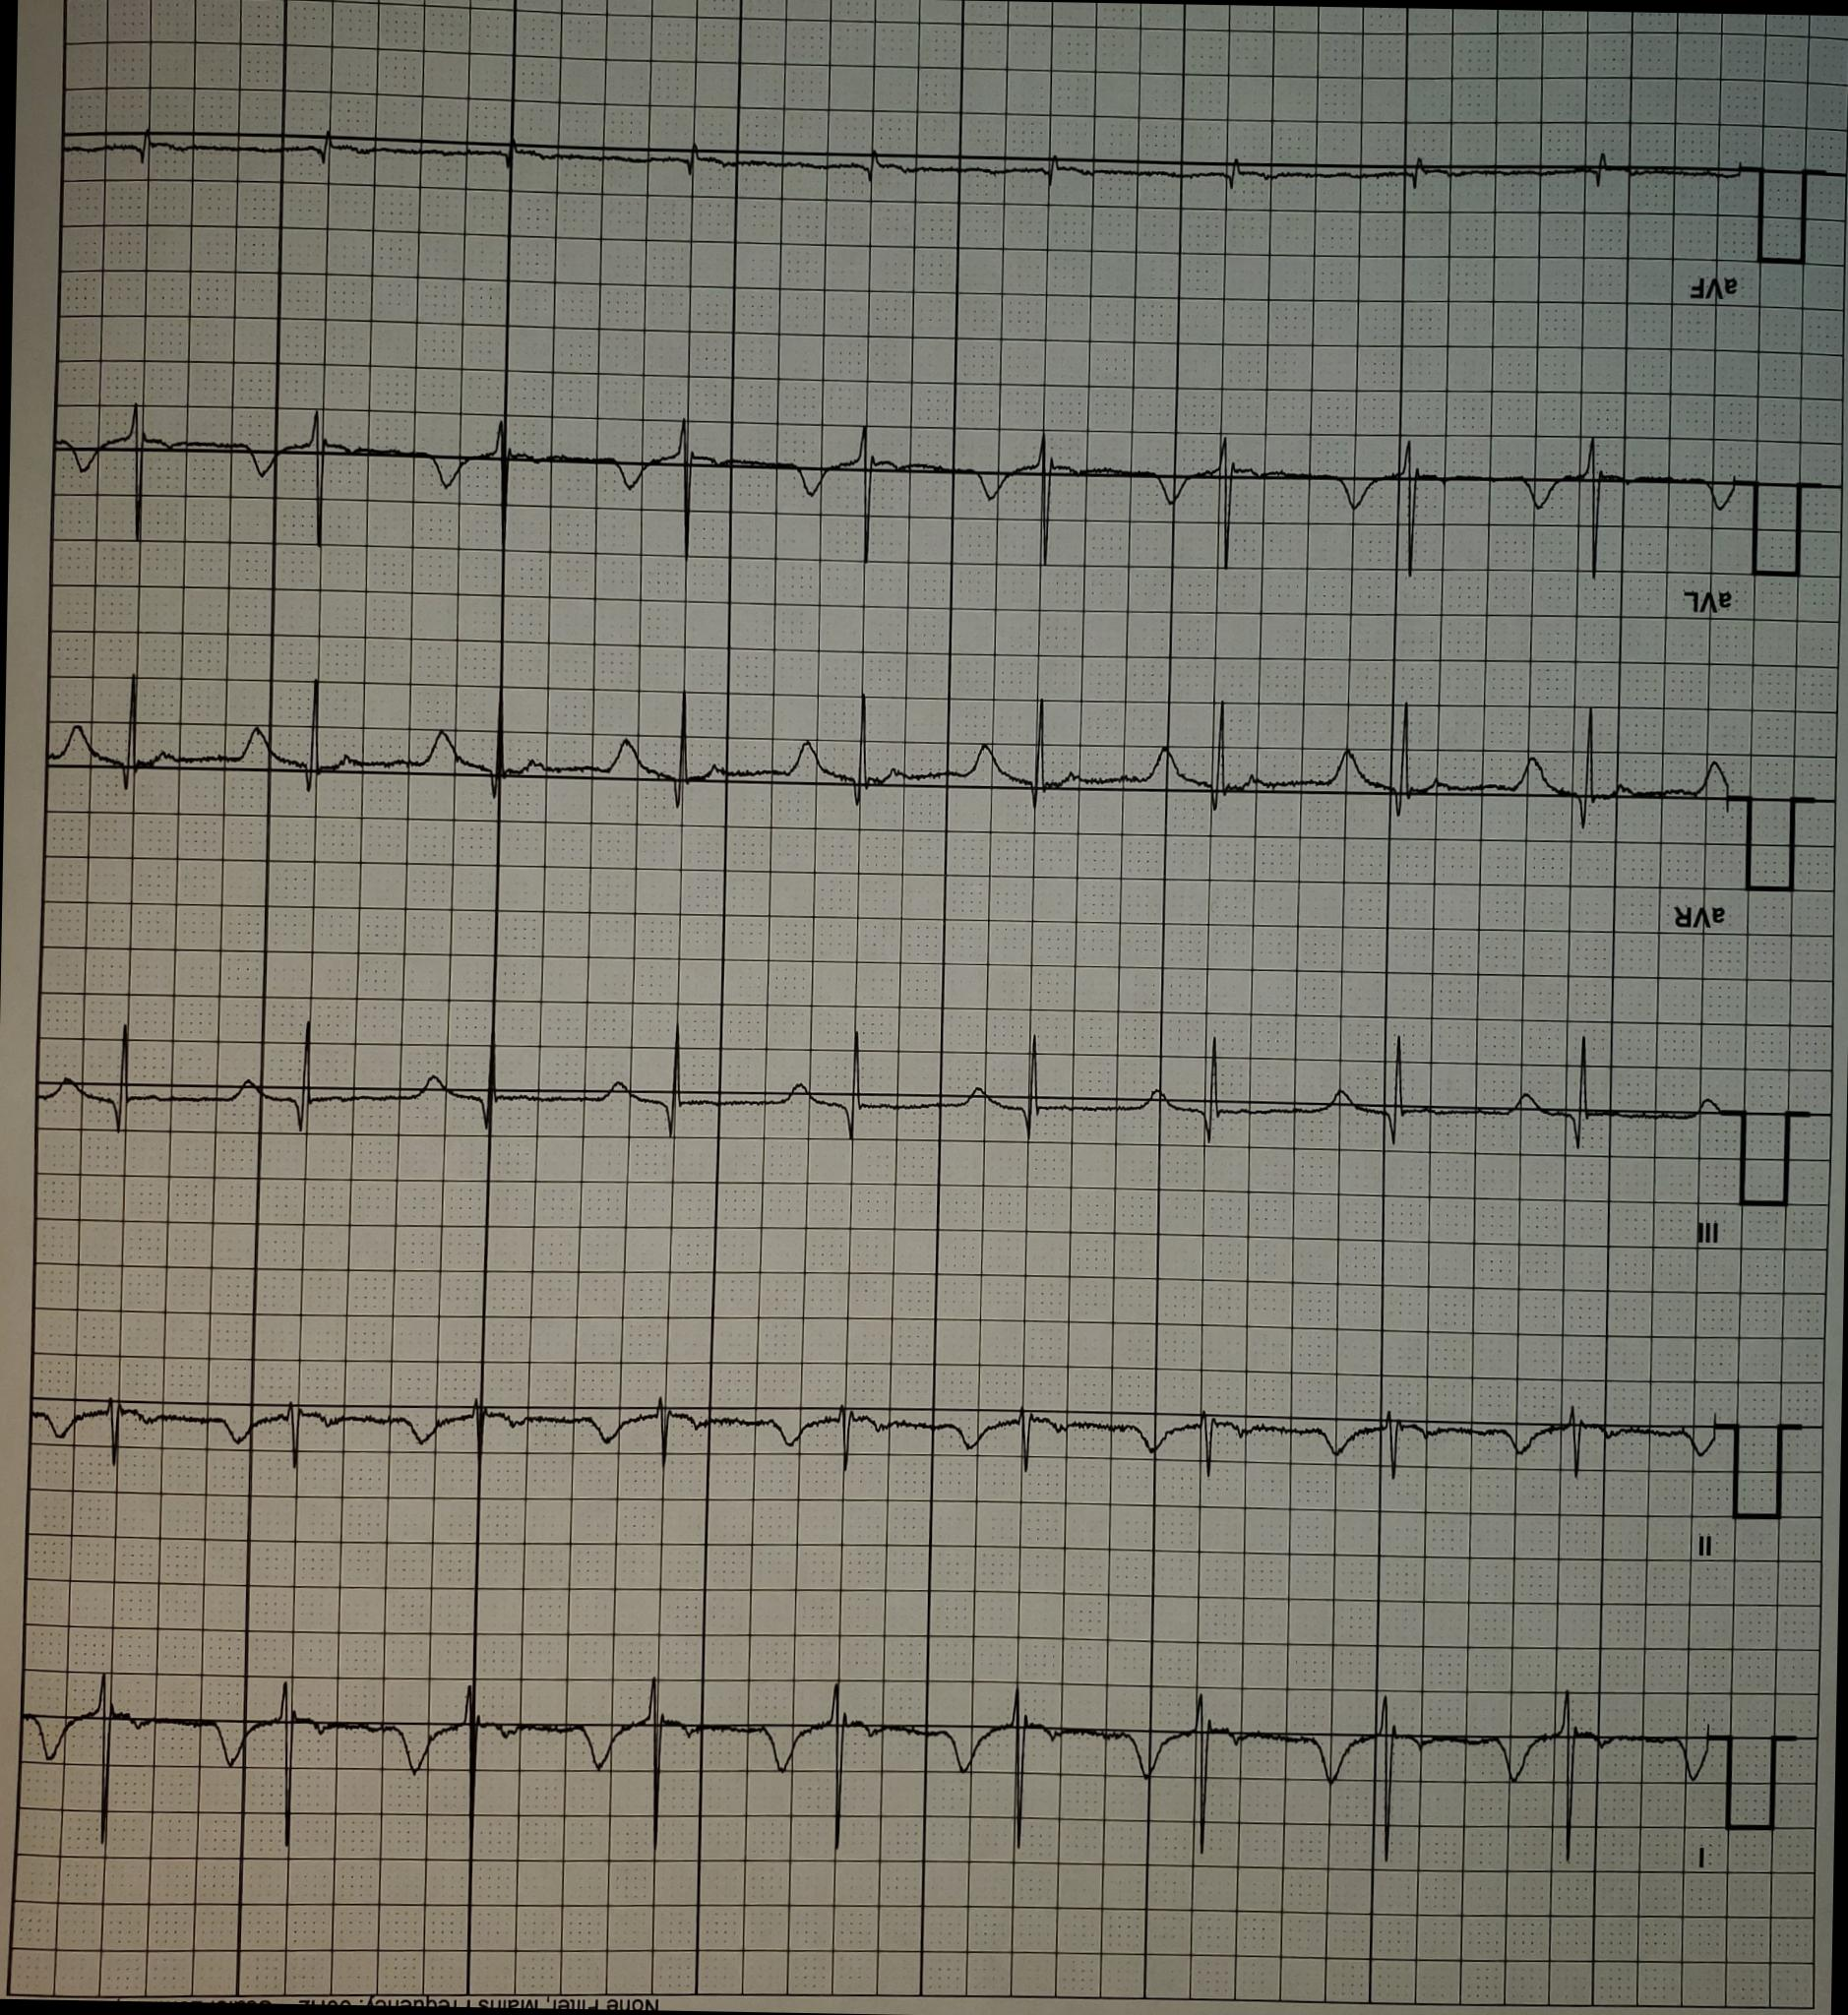Lead_I: (1045, 1662, 1719, 1900)
Lead_III: (1146, 1003, 1739, 1268)
Lead_II_ext: (28, 1355, 1730, 1574)
Lead_aVF: (1166, 83, 1756, 321)
Lead_aVL: (1165, 385, 1752, 645)
Lead_aVR: (1159, 679, 1740, 946)
